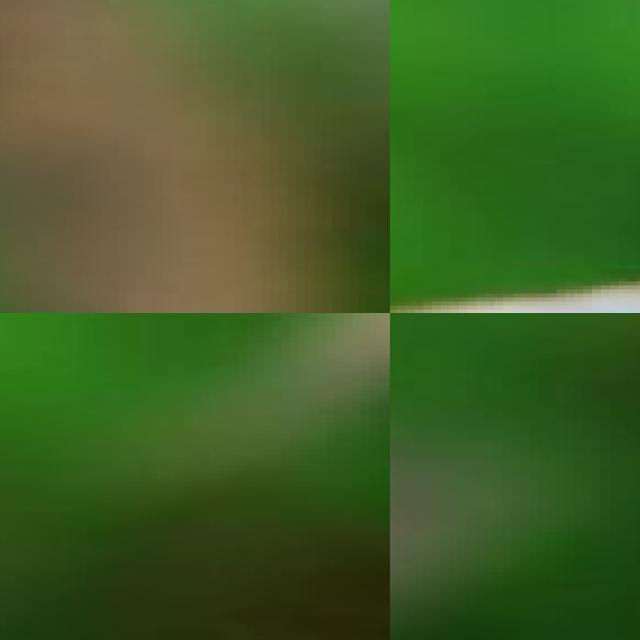fish: (0, 0, 390, 313), (0, 499, 390, 640)
